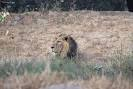lion: (48, 36, 81, 64)
